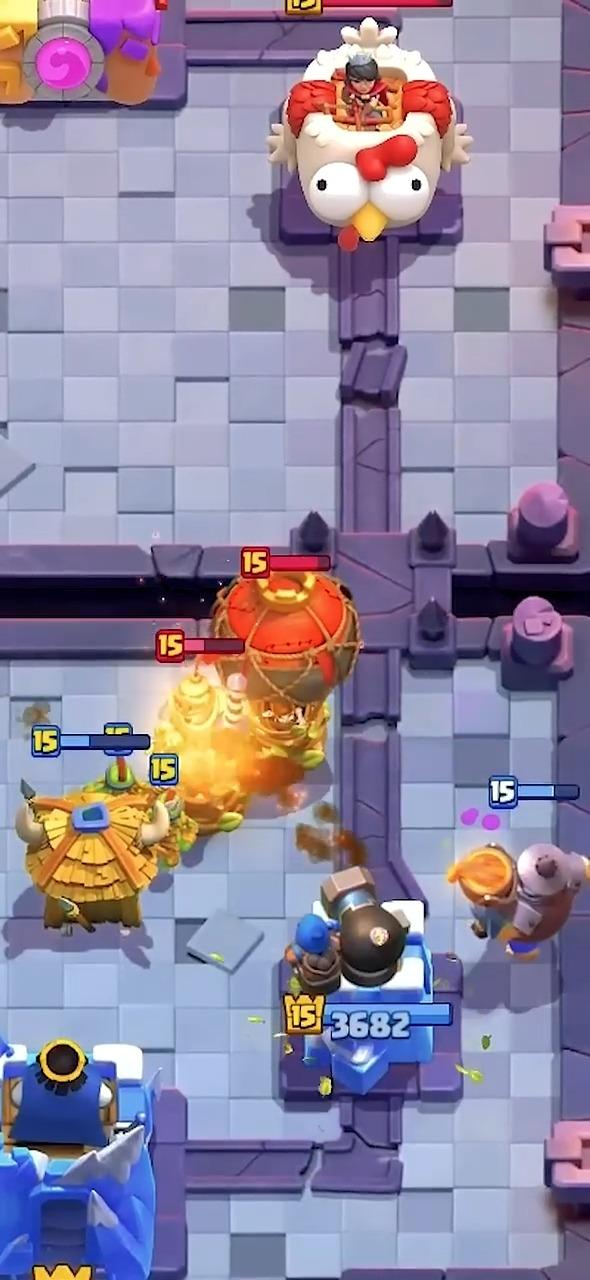baloon: (213, 567, 360, 713)
furnace: (447, 843, 589, 958)
goblin hut: (15, 774, 179, 931)
prince: (166, 666, 245, 748)
vines: (252, 703, 329, 770), (180, 784, 246, 835)
